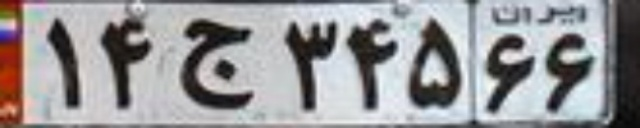1: (46, 16, 80, 108)
3: (280, 20, 335, 111)
4: (344, 17, 400, 109), (98, 18, 153, 110)
5: (407, 17, 462, 109)
6: (544, 31, 597, 112), (483, 31, 536, 110)
jim: (176, 18, 255, 111)
